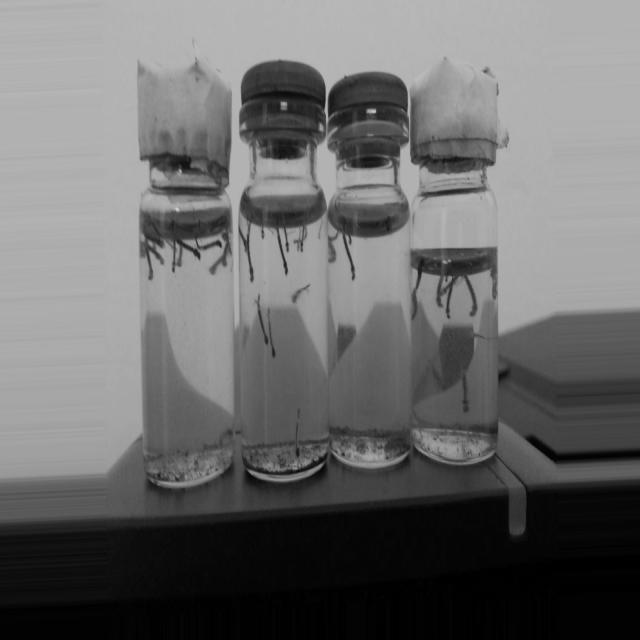larvas: (274, 225, 289, 275), (142, 241, 166, 266), (178, 238, 203, 261), (255, 297, 268, 341), (435, 264, 447, 308), (465, 276, 478, 316), (344, 233, 354, 280), (441, 274, 460, 297), (292, 282, 310, 306), (362, 218, 394, 231), (144, 229, 164, 249), (268, 308, 276, 357), (247, 220, 253, 283), (196, 235, 222, 249), (144, 249, 155, 282), (328, 232, 339, 262), (294, 405, 300, 460), (445, 286, 455, 319), (222, 231, 234, 256), (462, 367, 468, 411), (416, 258, 425, 285), (210, 216, 226, 231), (261, 217, 272, 238), (210, 256, 222, 275), (412, 288, 419, 320), (171, 240, 178, 272), (472, 332, 498, 340), (283, 221, 290, 250), (239, 226, 247, 249), (221, 247, 230, 267), (177, 243, 183, 269), (490, 269, 495, 300), (494, 266, 498, 302), (318, 216, 323, 241), (300, 226, 305, 251), (297, 229, 302, 252), (445, 273, 453, 282), (347, 231, 352, 244), (294, 238, 297, 245)
